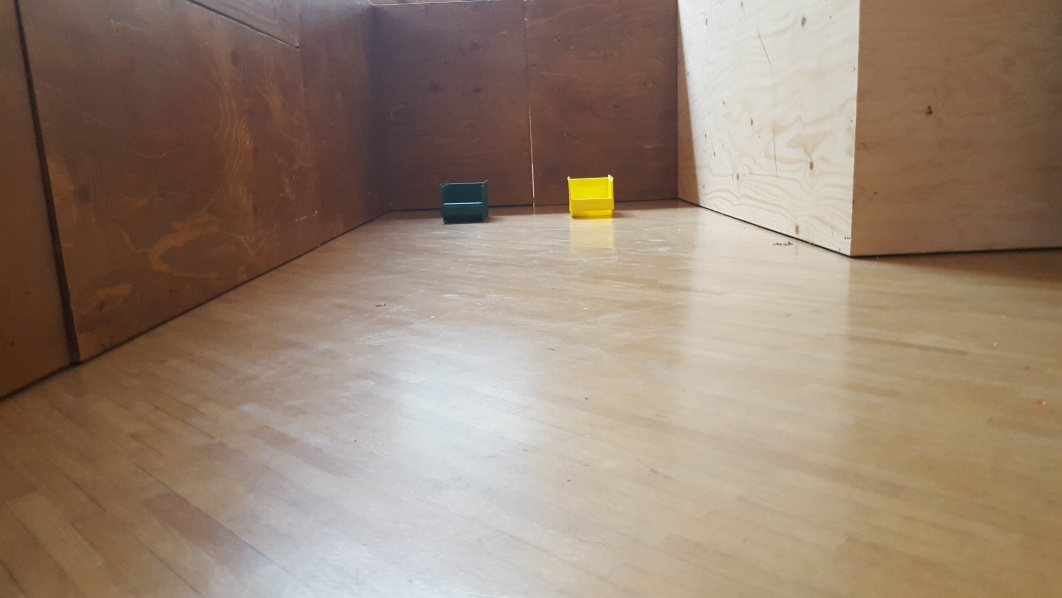tray: (562, 171, 621, 217), (434, 180, 488, 221)
